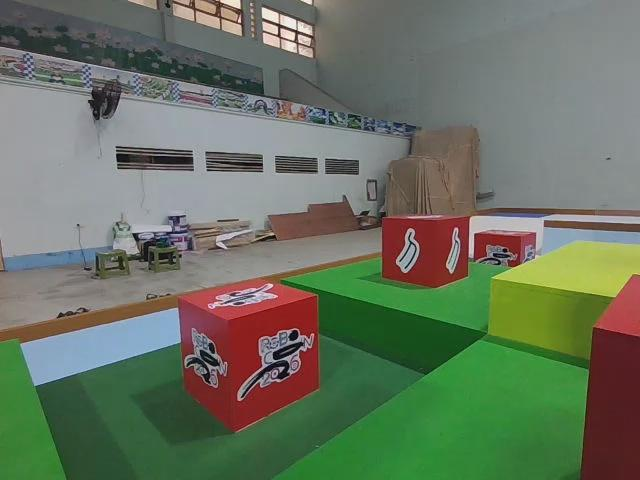R1: (177, 279, 320, 433), (473, 229, 537, 276)
R2 Real: (382, 213, 471, 287)
